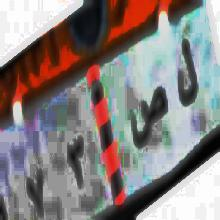3: (65, 122, 86, 194)
7: (25, 159, 50, 220)
laam: (176, 34, 199, 123)
saad: (131, 78, 166, 167)
